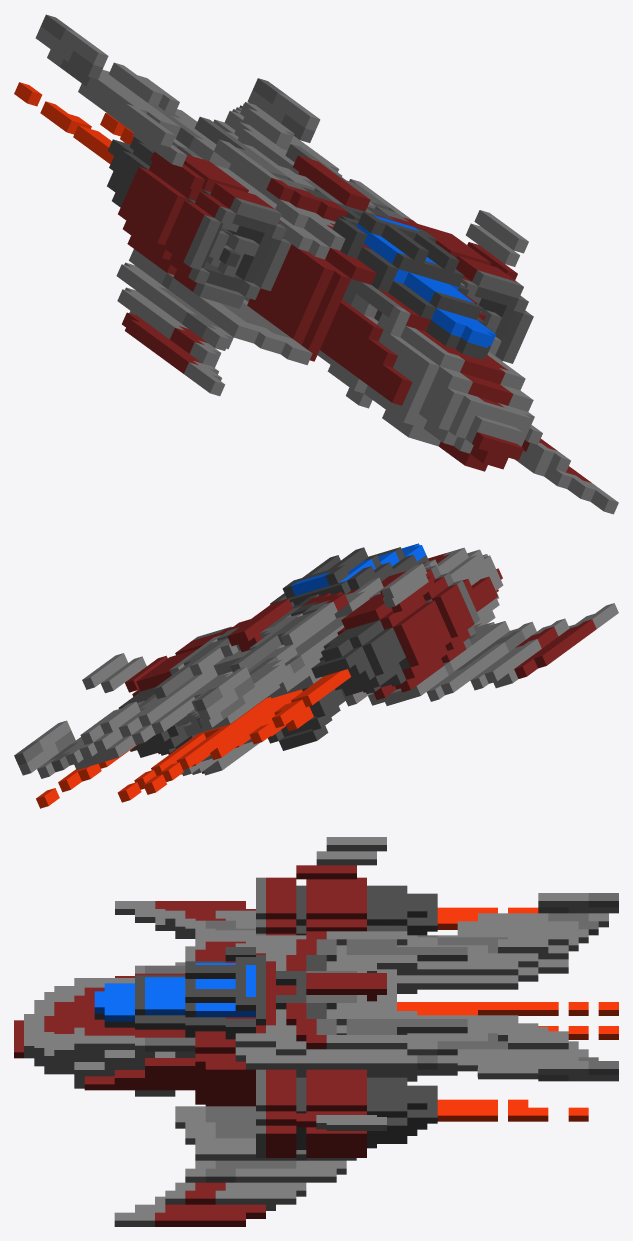
Rendered from Volt-Striker.glb.
3 renders of one model, top to bottom at view 1: azimuth 30°, elevation 25°; view 2: azimuth 150°, elevation 25°; view 3: azimuth 270°, elevation 25°, orthographic. The views are drawn at different scales.
Parts seen in each view (by area): view 1: Untitled; view 2: Untitled; view 3: Untitled.
Part boxes in pixels (x1,y1,x2,y2): Untitled: (14, 14, 618, 514); Untitled: (14, 543, 618, 808); Untitled: (14, 837, 618, 1226).
Bounding box in the file's own units: 4.02 × 2.99 × 6.
Materials: 1 (1 with a texture image).
